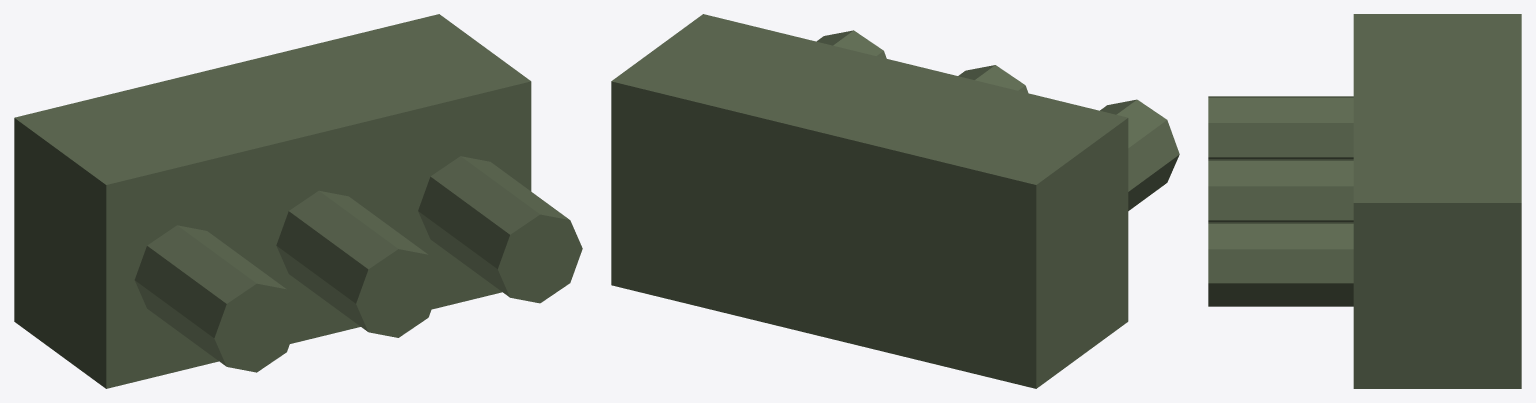
File: SM_RivPlanter.obj
The picture shows the model from 3 angles, left to right: view 1: azimuth 30°, elevation 25°; view 2: azimuth 150°, elevation 25°; view 3: azimuth 270°, elevation 25°; orthographic projection. The views are drawn at different scales.
Parts seen in each view (by area): view 1: SM_RivPlanter; view 2: SM_RivPlanter; view 3: SM_RivPlanter.
Part boxes in pixels (x1,y1,x2,y2): SM_RivPlanter: [14, 14, 582, 388]; SM_RivPlanter: [611, 14, 1179, 388]; SM_RivPlanter: [1208, 14, 1521, 388].
Size of the model in its own units: 120 by 55 by 84.
